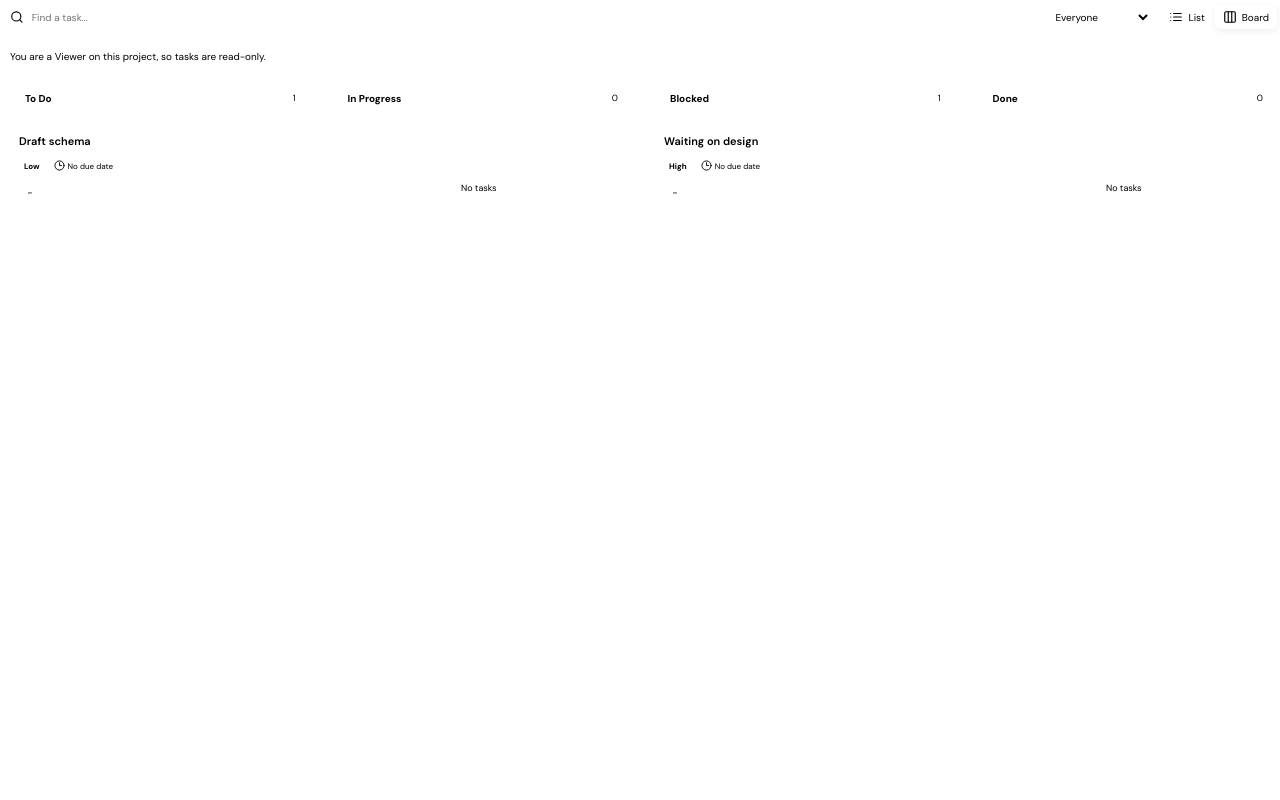
it: TasksPanel board view › Viewers get a read-only board and a read-only task modal
Expected: the text "You are a Viewer on this project, so tasks are read-only." is shown, [10, 50, 266, 63]
What coordinates should you click on to do the following:
click the text "Draft schema"
I would click on:
 (55, 141)
Its box is [19, 134, 91, 148].
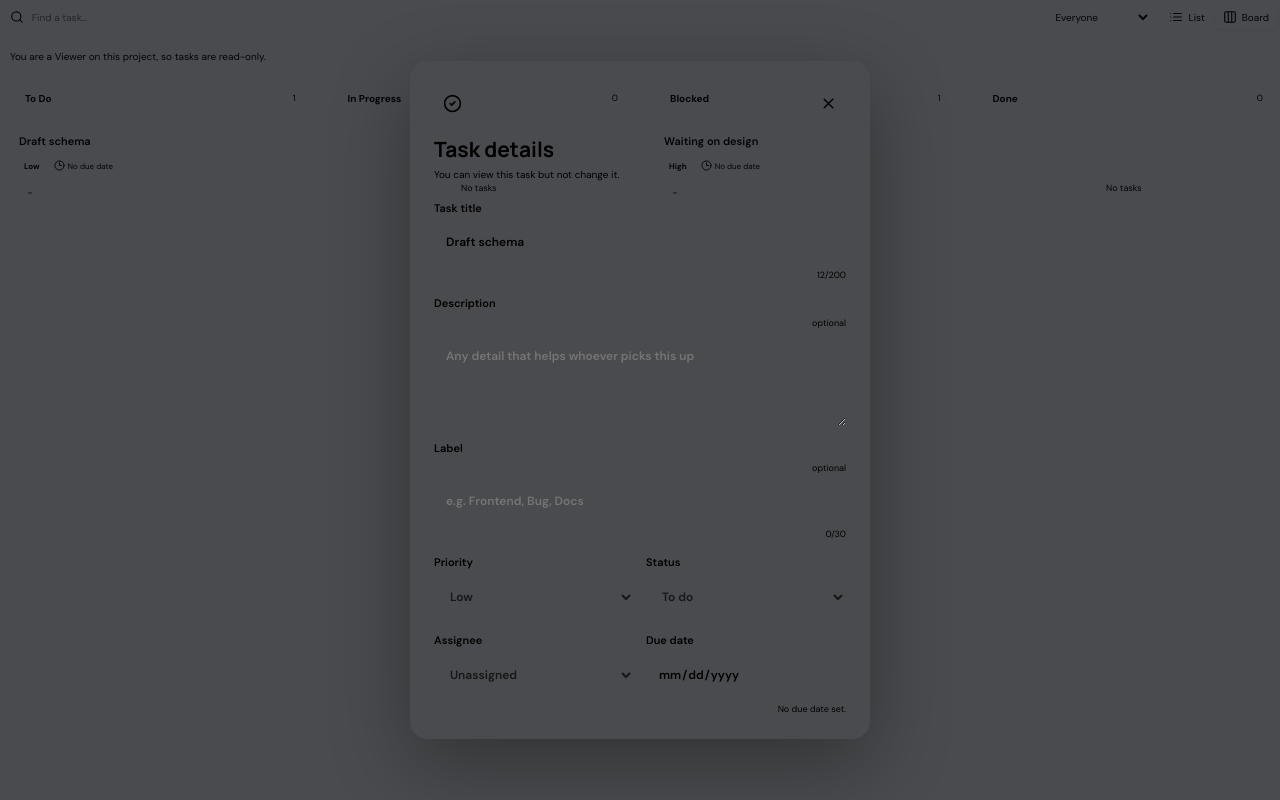
Expected: the heading "Task details" is shown, [434, 135, 554, 163]
Expected: the element showing "Draft schema" is disabled, [434, 201, 846, 715]
